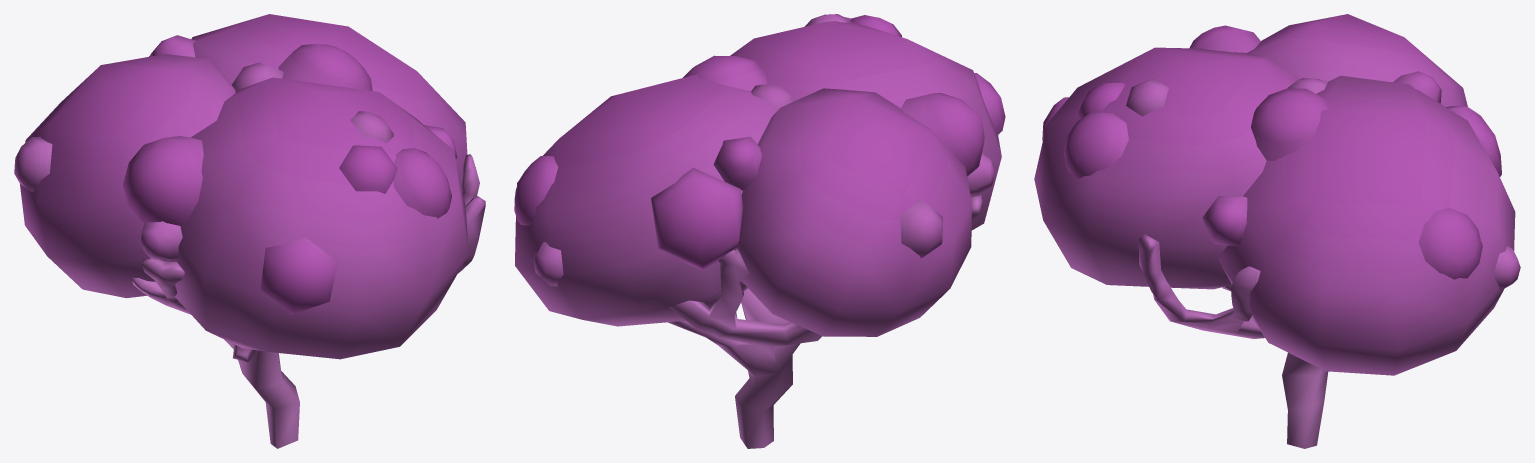
Rendered from CoralKD.fbx.
The picture shows the model from 3 angles, left to right: view 1: azimuth 30°, elevation 25°; view 2: azimuth 150°, elevation 25°; view 3: azimuth 270°, elevation 25°; orthographic projection. The views are drawn at different scales.
Visible parts, largest first — view 1: CoralKD; view 2: CoralKD; view 3: CoralKD.
Boxes of the visible parts, x1,y1,x2,y2 form: CoralKD: (14,14,485,448); CoralKD: (514,14,1005,448); CoralKD: (1034,14,1520,448).
Size of the model in its own units: 79.98 by 71.09 by 83.5.
Materials: 1 (1 with a texture image).
